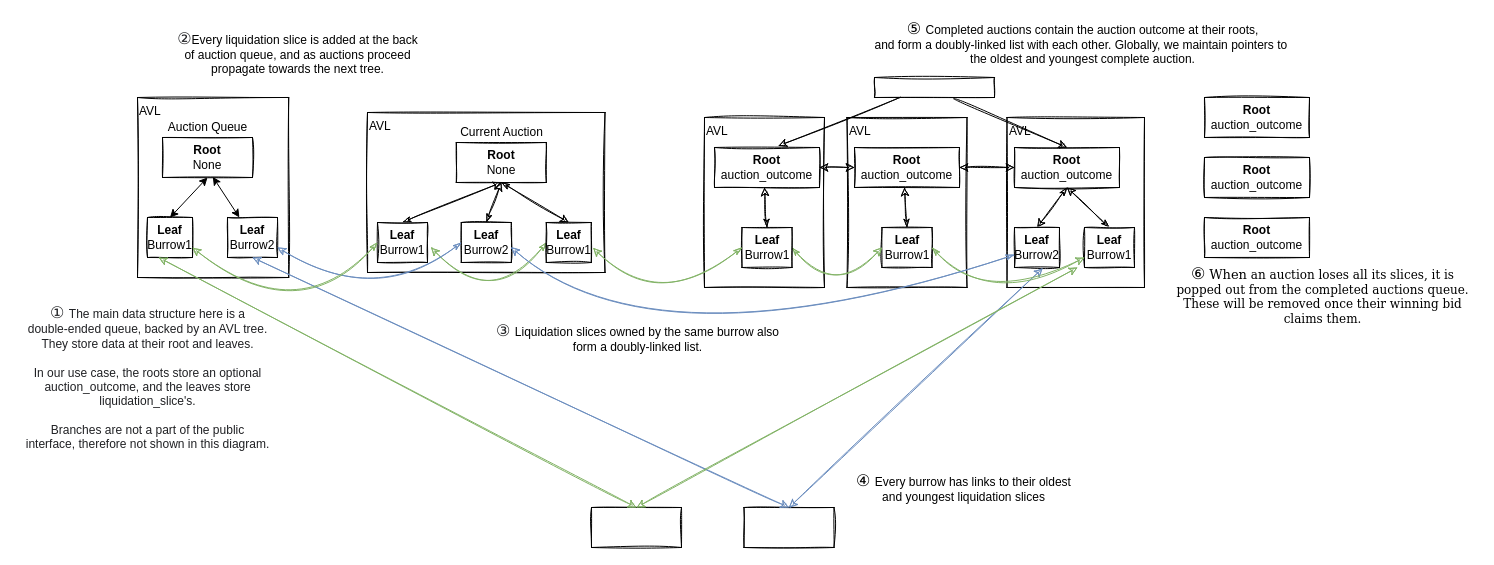
The diagram is 1494 pixels wide and 565 high, and some of its shapes have lost their labels. Here are the shapes that lost their labels. From the top down, the centre of each, then its label:
At pixel 934 87: "Completed Auctions".
At pixel 636 527: "Burrow1".
At pixel 788 527: "Burrow2".
